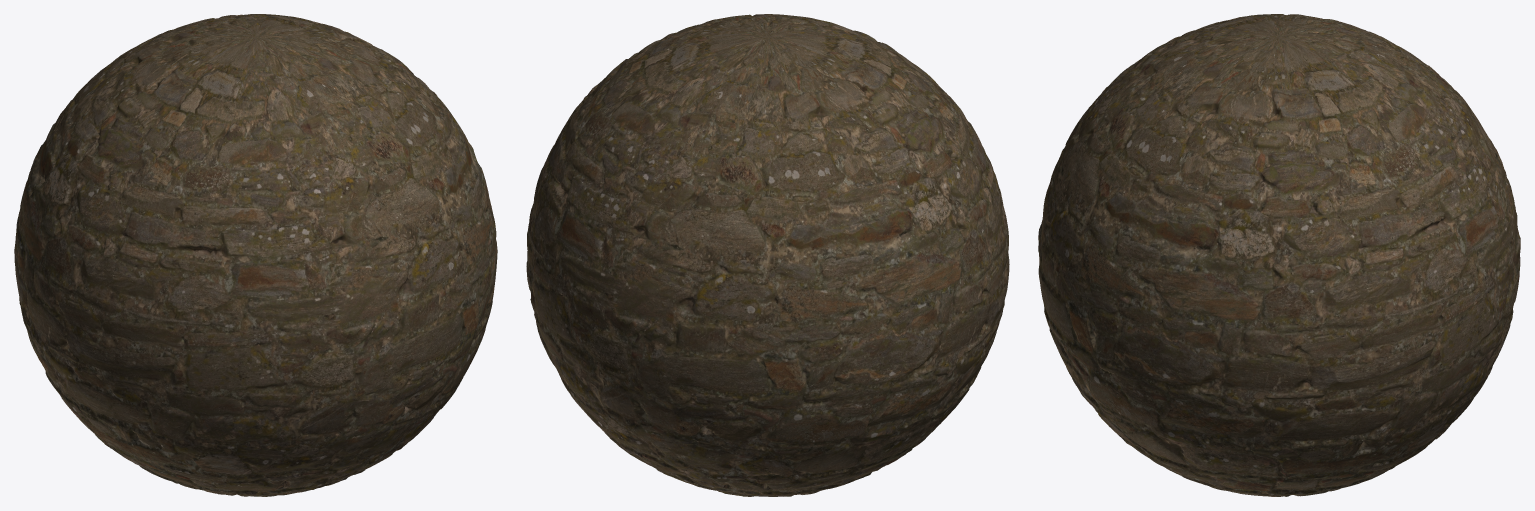
Rendered from rock_wall_05_1k.gltf.
The picture shows the model from 3 angles, left to right: view 1: azimuth 30°, elevation 25°; view 2: azimuth 150°, elevation 25°; view 3: azimuth 270°, elevation 25°; orthographic projection.
Visible parts, largest first — view 1: sphere_gltf; view 2: sphere_gltf; view 3: sphere_gltf.
Boxes of the visible parts, x1,y1,x2,y2 form: sphere_gltf: (14, 14, 497, 496); sphere_gltf: (526, 14, 1009, 496); sphere_gltf: (1038, 14, 1520, 496).
Size of the model in its own units: 2.29 by 2.29 by 2.29.
Materials: 1 (1 with a texture image).
